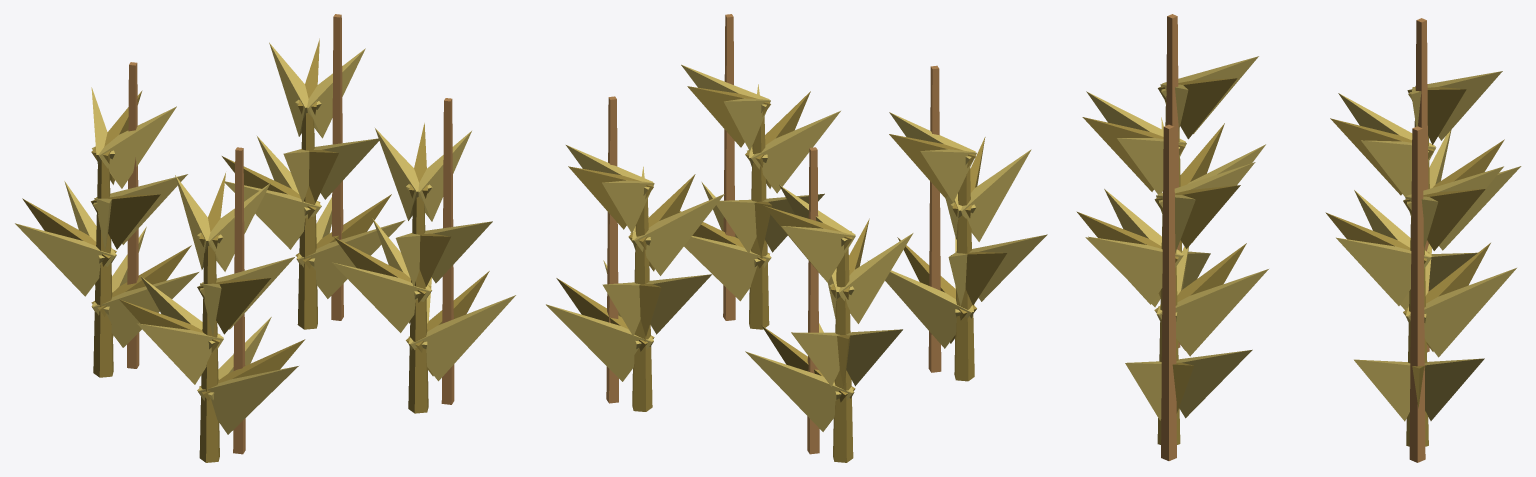
File: tomato-harvested.glb
3 renders of one model, left to right at view 1: azimuth 30°, elevation 25°; view 2: azimuth 150°, elevation 25°; view 3: azimuth 270°, elevation 25°, orthographic. The views are drawn at different scales.
Parts seen in each view (by area): view 1: tomato-harvested; view 2: tomato-harvested; view 3: tomato-harvested.
Part boxes in pixels (x1,y1,x2,y2): tomato-harvested: (15, 14, 515, 462); tomato-harvested: (546, 14, 1047, 462); tomato-harvested: (1076, 14, 1521, 462).
Size of the model in its own units: 0.7109 by 0.55 by 0.6706.
Materials: 1 (1 with a texture image).
